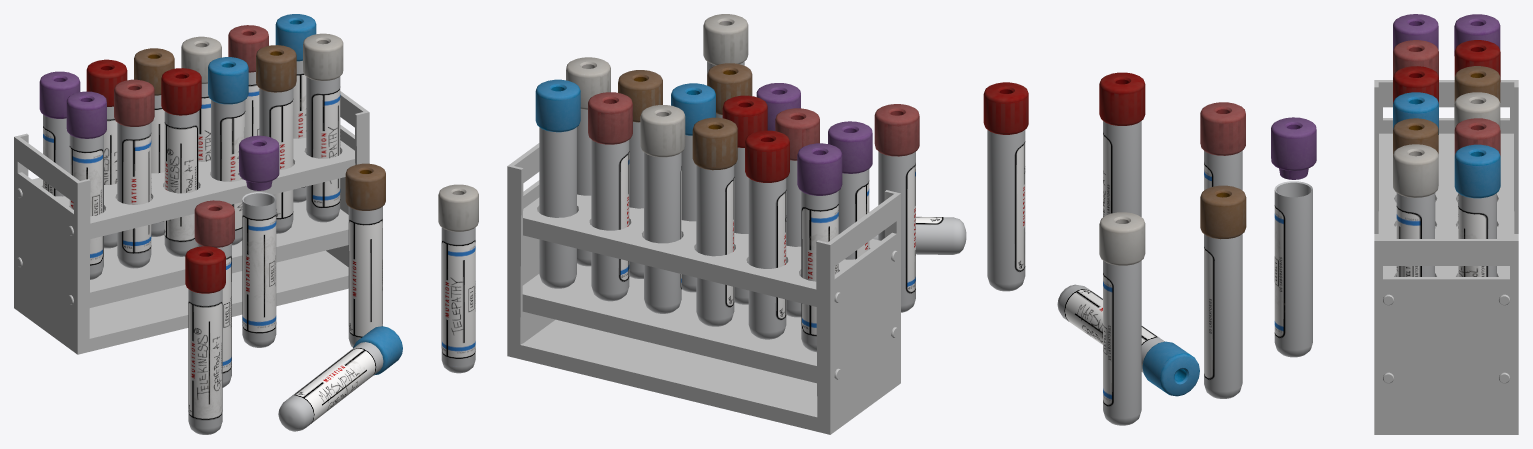
File: Phials_Collection.fbx
3 renders of one model, left to right at view 1: azimuth 30°, elevation 25°; view 2: azimuth 150°, elevation 25°; view 3: azimuth 270°, elevation 25°, orthographic. The views are drawn at different scales.
Parts seen in each view (by area): view 1: Phials_Racked, Rack, Phial_Telepathy, Phial_Telekinesis, Phial_Blank_3, Phial_Blank_2, Phial_Marsupial, Phial_Blank_1, Phial_Cap; view 2: Phials_Racked, Rack, Phial_Telekinesis, Phial_Blank_1, Phial_Telepathy, Phial_Marsupial, Phial_Blank_3, Phial_Cap; view 3: Rack, Phials_Racked, Phial_Blank_3, Phial_Telepathy, Phial_Blank_2, Phial_Telekinesis, Phial_Marsupial, Phial_Blank_1, Phial_Cap.
Part boxes in pixels (left/top/right/bottom): Phials_Racked: left=39, top=14, right=343, bottom=279; Rack: left=14, top=91, right=369, bottom=354; Phial_Telepathy: left=438, top=184, right=478, bottom=373; Phial_Telekinesis: left=185, top=246, right=225, bottom=434; Phial_Blank_3: left=345, top=163, right=385, bottom=347; Phial_Blank_2: left=242, top=192, right=276, bottom=347; Phial_Marsupial: left=278, top=326, right=402, bottom=431; Phial_Blank_1: left=194, top=200, right=234, bottom=387; Phial_Cap: left=239, top=135, right=279, bottom=190; Phials_Racked: left=535, top=57, right=872, bottom=352; Rack: left=507, top=143, right=900, bottom=434; Phial_Telekinesis: left=983, top=82, right=1028, bottom=291; Phial_Blank_1: left=874, top=104, right=919, bottom=312; Phial_Telepathy: left=703, top=14, right=748, bottom=85; Phial_Marsupial: left=873, top=216, right=966, bottom=254; Phial_Blank_3: left=707, top=63, right=752, bottom=118; Phial_Cap: left=756, top=83, right=800, bottom=130; Rack: left=1374, top=80, right=1518, bottom=434; Phials_Racked: left=1393, top=14, right=1500, bottom=276; Phial_Blank_3: left=1200, top=185, right=1246, bottom=398; Phial_Telepathy: left=1099, top=212, right=1145, bottom=425; Phial_Blank_2: left=1274, top=181, right=1312, bottom=357; Phial_Telekinesis: left=1099, top=72, right=1145, bottom=216; Phial_Marsupial: left=1057, top=284, right=1199, bottom=396; Phial_Blank_1: left=1200, top=102, right=1245, bottom=190; Phial_Cap: left=1271, top=117, right=1316, bottom=179.
Size of the model in its own units: 142 by 109 by 170.
